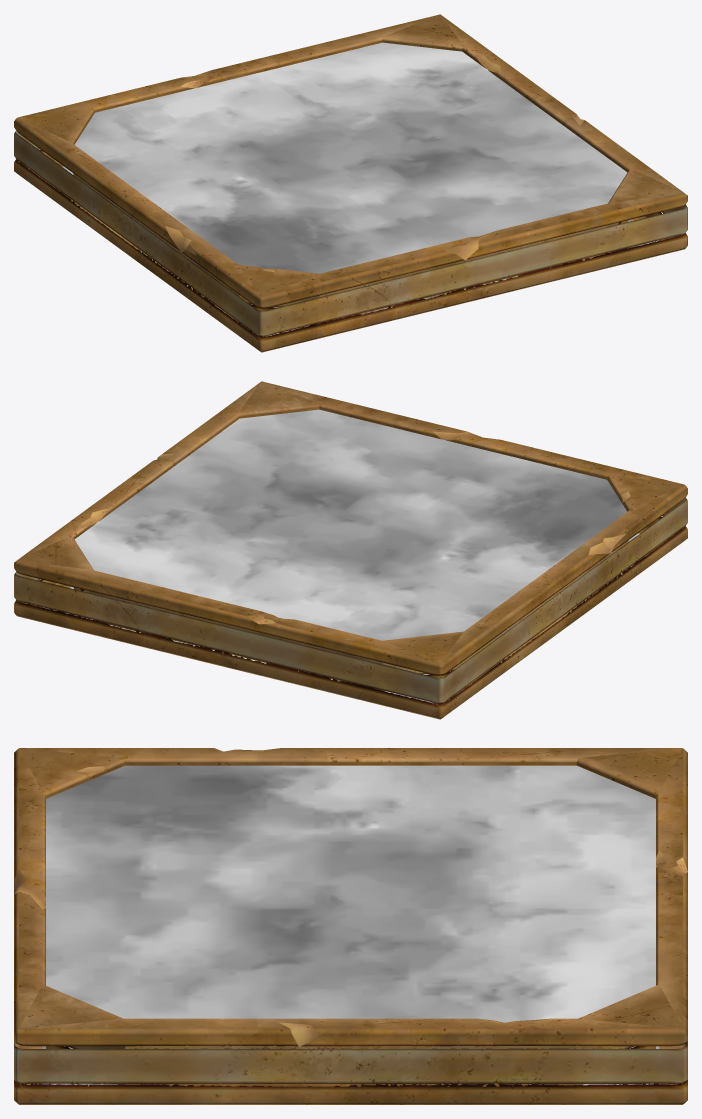
3 renders of one model, top to bottom at view 1: azimuth 30°, elevation 25°; view 2: azimuth 150°, elevation 25°; view 3: azimuth 270°, elevation 25°, orthographic. The views are drawn at different scales.
Visible parts, largest first — view 1: SM_AgilityPlatform_2x2_LOD0; view 2: SM_AgilityPlatform_2x2_LOD0; view 3: SM_AgilityPlatform_2x2_LOD0.
Part boxes in pixels (x1=…): SM_AgilityPlatform_2x2_LOD0: x1=14, y1=14, x2=687, y2=352; SM_AgilityPlatform_2x2_LOD0: x1=14, y1=381, x2=687, y2=719; SM_AgilityPlatform_2x2_LOD0: x1=14, y1=748, x2=687, y2=1104.
Bounding box in the file's own units: 2 × 0.25 × 2.
2 materials, 2 textured.
